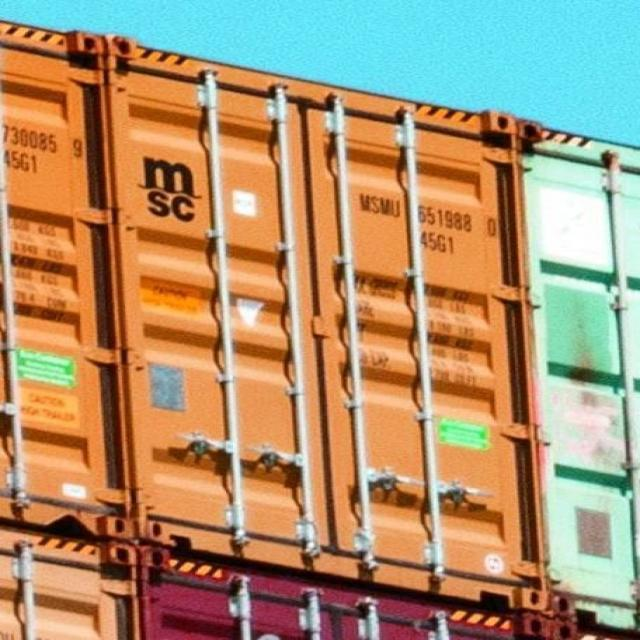ISO: (419, 228, 460, 256)
container_number: (361, 190, 492, 230)
